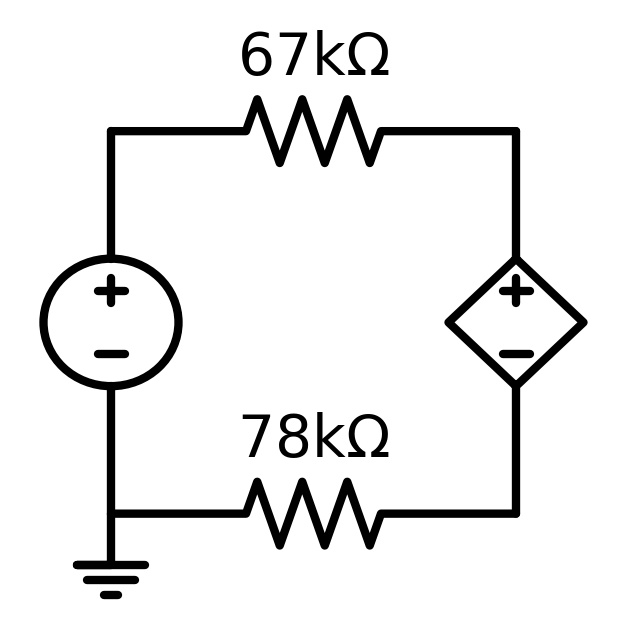ground: (63, 543, 165, 612)
resistor: (232, 463, 390, 559), (234, 82, 386, 180)
sourcedc: (36, 253, 182, 400)
sourcevc: (438, 249, 589, 396)
